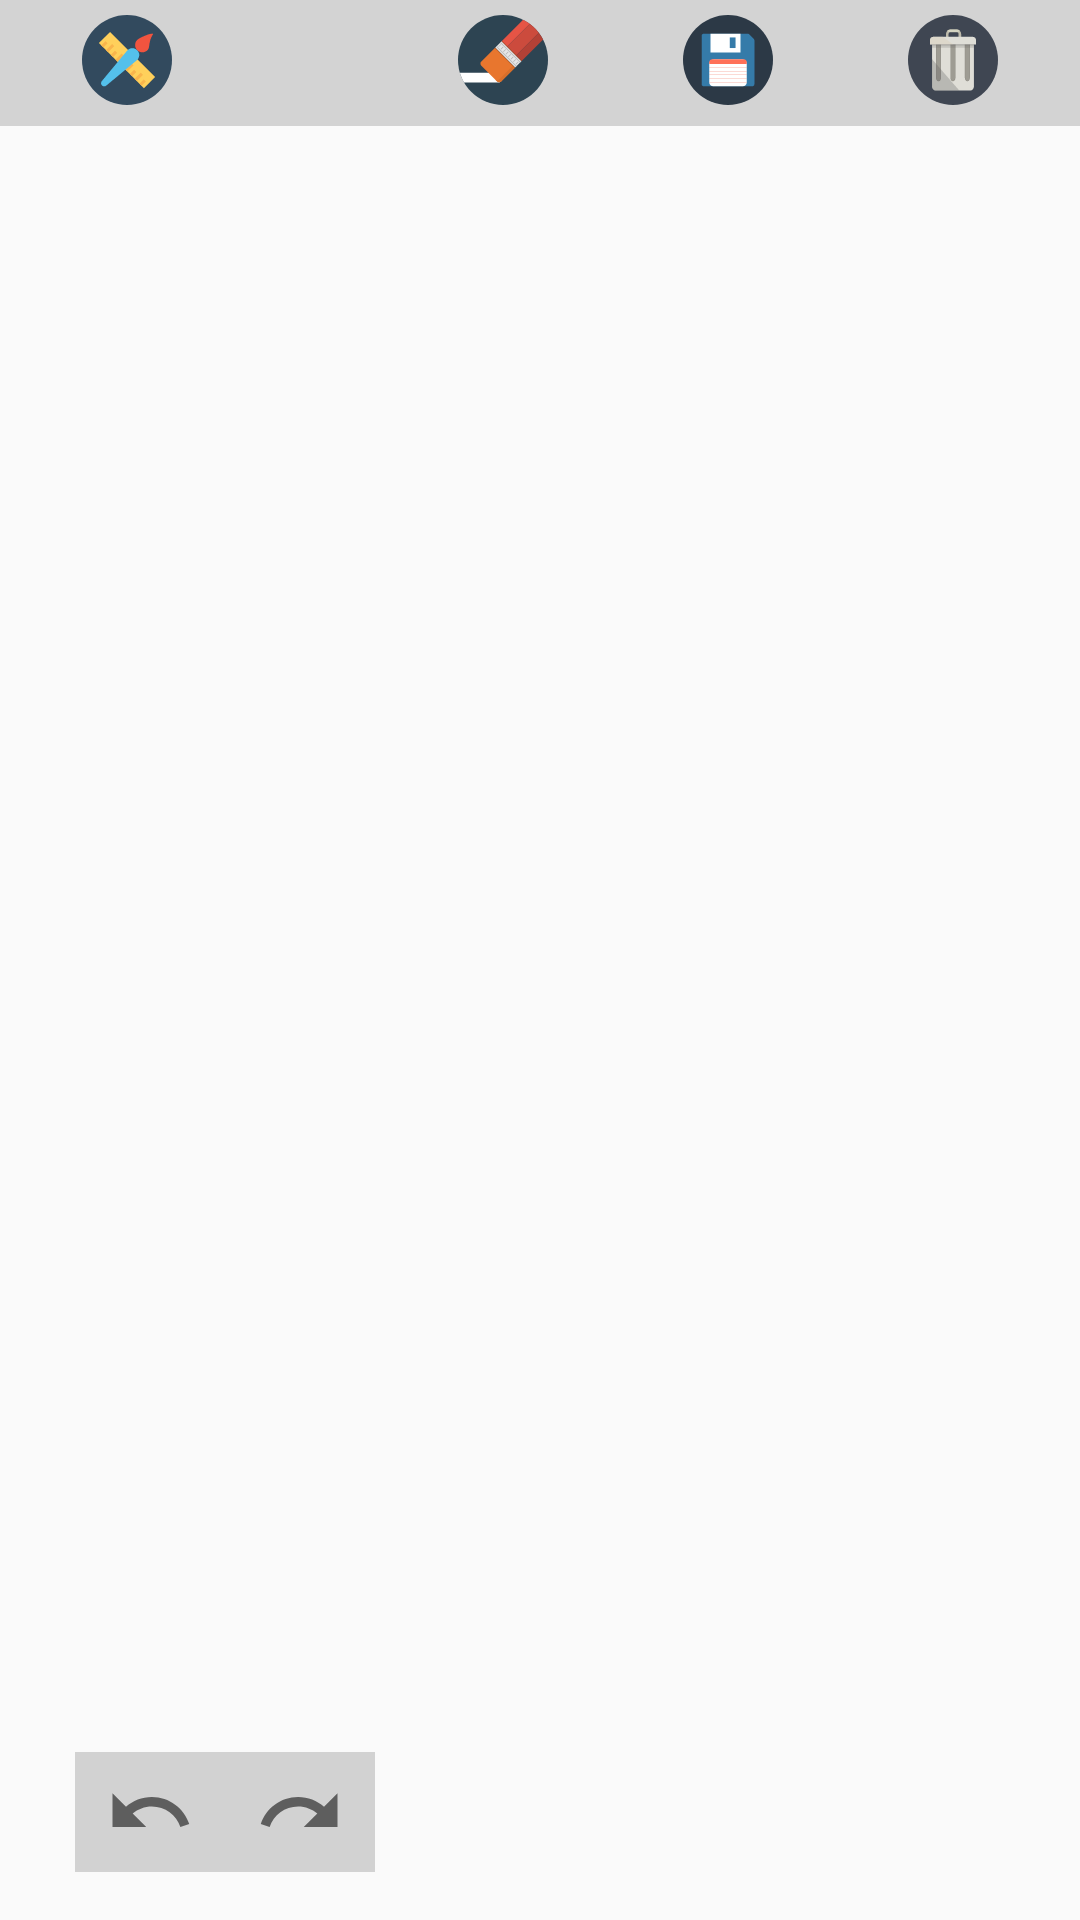

Icons on this 1080x1920 Android screen, each with its box as (x1, y1, x2, y2):
erase: (458, 15, 548, 105)
graphic tool: (82, 15, 172, 105)
redo: (261, 1793, 338, 1827)
save: (683, 15, 773, 105)
trash: (908, 15, 998, 105)
undo: (112, 1793, 189, 1827)
